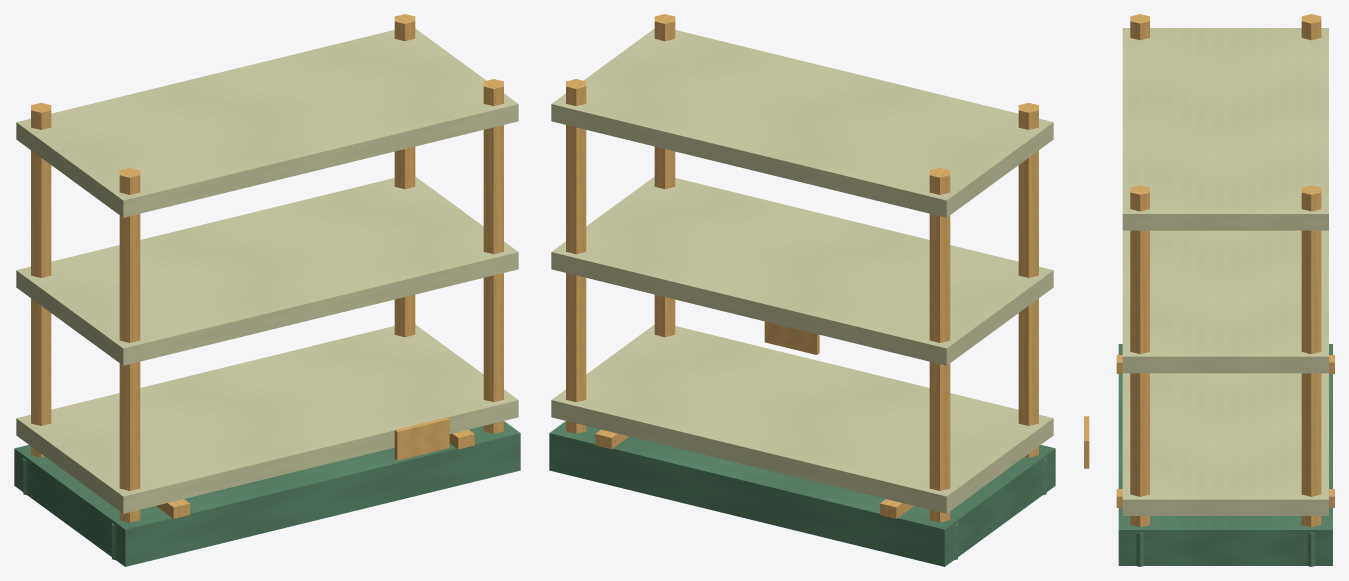
The model's file is atlas100-s003-a06.lod1.glb.
3 views of the same model, side by side, from view 1: azimuth 30°, elevation 25°; view 2: azimuth 150°, elevation 25°; view 3: azimuth 270°, elevation 25° (orthographic). The views are drawn at different scales.
Parts seen in each view (by area): view 1: atlas100-s003-a06:part-013, atlas100-s003-a06:part-012, atlas100-s003-a06:part-011, atlas100-s003-a06:part-000, atlas100-s003-a06:part-005, atlas100-s003-a06:part-009, atlas100-s003-a06:part-003, atlas100-s003-a06:part-007, atlas100-s003-a06:part-014; view 2: atlas100-s003-a06:part-013, atlas100-s003-a06:part-011, atlas100-s003-a06:part-012, atlas100-s003-a06:part-000, atlas100-s003-a06:part-003, atlas100-s003-a06:part-007, atlas100-s003-a06:part-005, atlas100-s003-a06:part-009, atlas100-s003-a06:part-014; view 3: atlas100-s003-a06:part-013, atlas100-s003-a06:part-012, atlas100-s003-a06:part-011, atlas100-s003-a06:part-000, atlas100-s003-a06:part-007, atlas100-s003-a06:part-009, atlas100-s003-a06:part-003, atlas100-s003-a06:part-005.
Boxes of the visible parts, left/top/right/bottom form: atlas100-s003-a06:part-013: left=16, top=28, right=518, bottom=217; atlas100-s003-a06:part-012: left=16, top=176, right=518, bottom=365; atlas100-s003-a06:part-011: left=16, top=324, right=518, bottom=513; atlas100-s003-a06:part-000: left=14, top=421, right=520, bottom=566; atlas100-s003-a06:part-005: left=119, top=168, right=140, bottom=522; atlas100-s003-a06:part-009: left=483, top=79, right=503, bottom=433; atlas100-s003-a06:part-003: left=31, top=103, right=51, bottom=457; atlas100-s003-a06:part-007: left=394, top=14, right=415, bottom=337; atlas100-s003-a06:part-014: left=394, top=417, right=449, bottom=460; atlas100-s003-a06:part-013: left=551, top=28, right=1053, bottom=217; atlas100-s003-a06:part-011: left=551, top=324, right=1053, bottom=513; atlas100-s003-a06:part-012: left=551, top=176, right=1053, bottom=365; atlas100-s003-a06:part-000: left=549, top=421, right=1055, bottom=566; atlas100-s003-a06:part-003: left=929, top=168, right=950, bottom=522; atlas100-s003-a06:part-007: left=566, top=79, right=586, bottom=433; atlas100-s003-a06:part-005: left=1018, top=103, right=1038, bottom=457; atlas100-s003-a06:part-009: left=654, top=14, right=675, bottom=337; atlas100-s003-a06:part-014: left=764, top=321, right=819, bottom=354; atlas100-s003-a06:part-013: left=1122, top=28, right=1328, bottom=230; atlas100-s003-a06:part-012: left=1122, top=230, right=1328, bottom=373; atlas100-s003-a06:part-011: left=1122, top=373, right=1328, bottom=515; atlas100-s003-a06:part-000: left=1118, top=344, right=1332, bottom=565; atlas100-s003-a06:part-007: left=1301, top=185, right=1321, bottom=527; atlas100-s003-a06:part-009: left=1130, top=185, right=1149, bottom=527; atlas100-s003-a06:part-003: left=1301, top=14, right=1321, bottom=40; atlas100-s003-a06:part-005: left=1130, top=14, right=1149, bottom=40.
Size of the model in its own units: 2.91 by 2.66 by 1.64.
3 materials, 3 textured.
